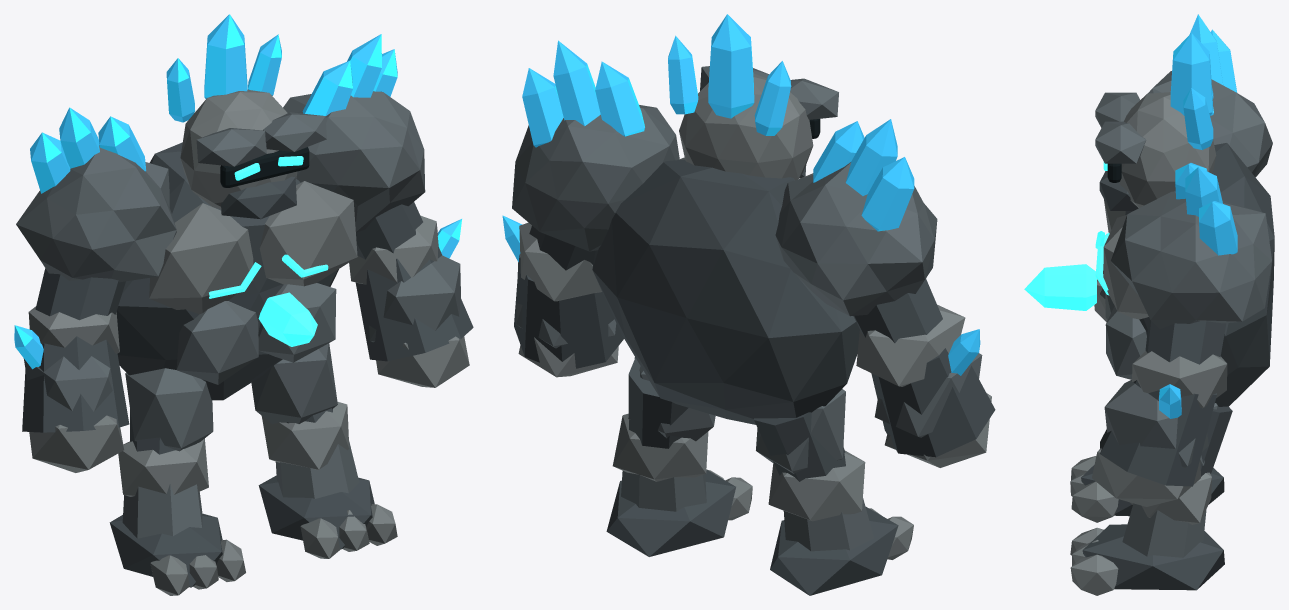
The model's file is guardian.glb.
3 renders of one model, left to right at view 1: azimuth 30°, elevation 25°; view 2: azimuth 150°, elevation 25°; view 3: azimuth 270°, elevation 25°, orthographic. The views are drawn at different scales.
Parts seen in each view (by area): view 1: Body_matte.002, Head_matte.002, Body_crystal, Head_crystal.001, Head_glow_cyan.001; view 2: Body_matte.002, Body_crystal, Head_matte.002, Head_crystal.001; view 3: Body_matte.002, Head_matte.002, Body_crystal, Head_crystal.001, Head_glow_cyan.001.
Boxes of the visible parts, left/top/right/bottom form: Body_matte.002: left=16, top=91, right=473, bottom=595; Head_matte.002: left=180, top=89, right=326, bottom=219; Body_crystal: left=14, top=34, right=461, bottom=369; Head_crystal.001: left=166, top=14, right=281, bottom=122; Head_glow_cyan.001: left=209, top=156, right=328, bottom=346; Body_matte.002: left=512, top=105, right=995, bottom=595; Body_crystal: left=502, top=40, right=980, bottom=375; Head_matte.002: left=679, top=66, right=838, bottom=180; Head_crystal.001: left=668, top=14, right=791, bottom=135; Body_matte.002: left=1070, top=71, right=1274, bottom=595; Head_matte.002: left=1095, top=92, right=1216, bottom=210; Body_crystal: left=1159, top=14, right=1237, bottom=418; Head_crystal.001: left=1170, top=33, right=1213, bottom=149; Head_glow_cyan.001: left=1024, top=162, right=1109, bottom=310.
Size of the model in its own units: 2.38 by 2.69 by 1.17.
